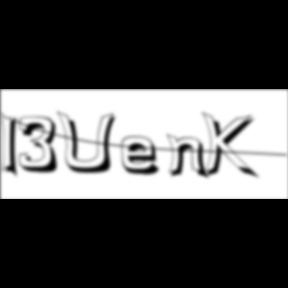3: (19, 116, 65, 176)
I: (1, 110, 25, 182)
K: (202, 110, 262, 182)
U: (58, 110, 122, 176)
e: (122, 135, 168, 178)
n: (166, 132, 214, 181)
